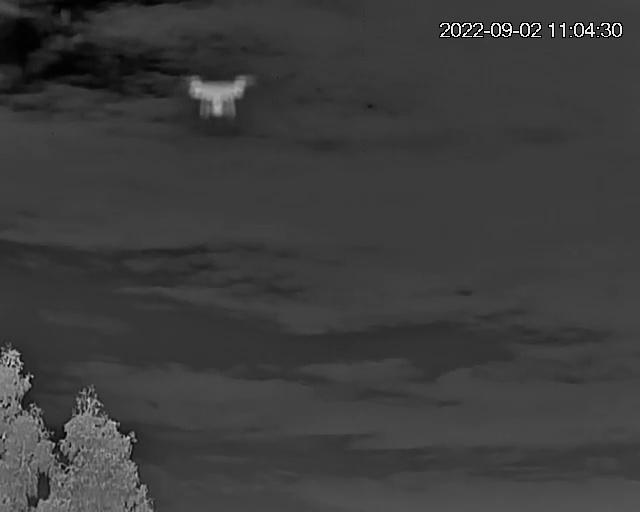DJI-Phantom: (187, 74, 251, 120)
